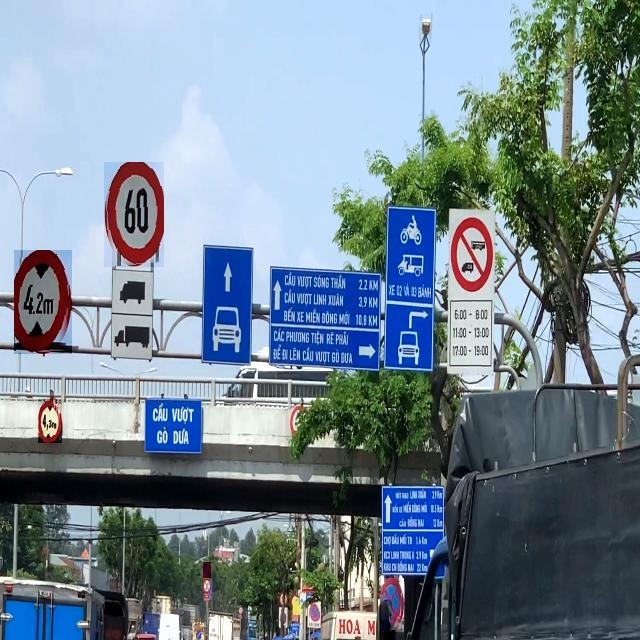bien_chi_dan: (104, 162, 164, 267), (14, 250, 72, 354), (381, 578, 404, 632), (38, 399, 62, 443), (309, 603, 320, 622), (204, 562, 212, 578)
